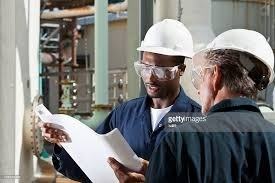helmet: (201, 28, 275, 80), (133, 17, 195, 60)
person with partial safety: (195, 24, 275, 114), (130, 17, 199, 109)
